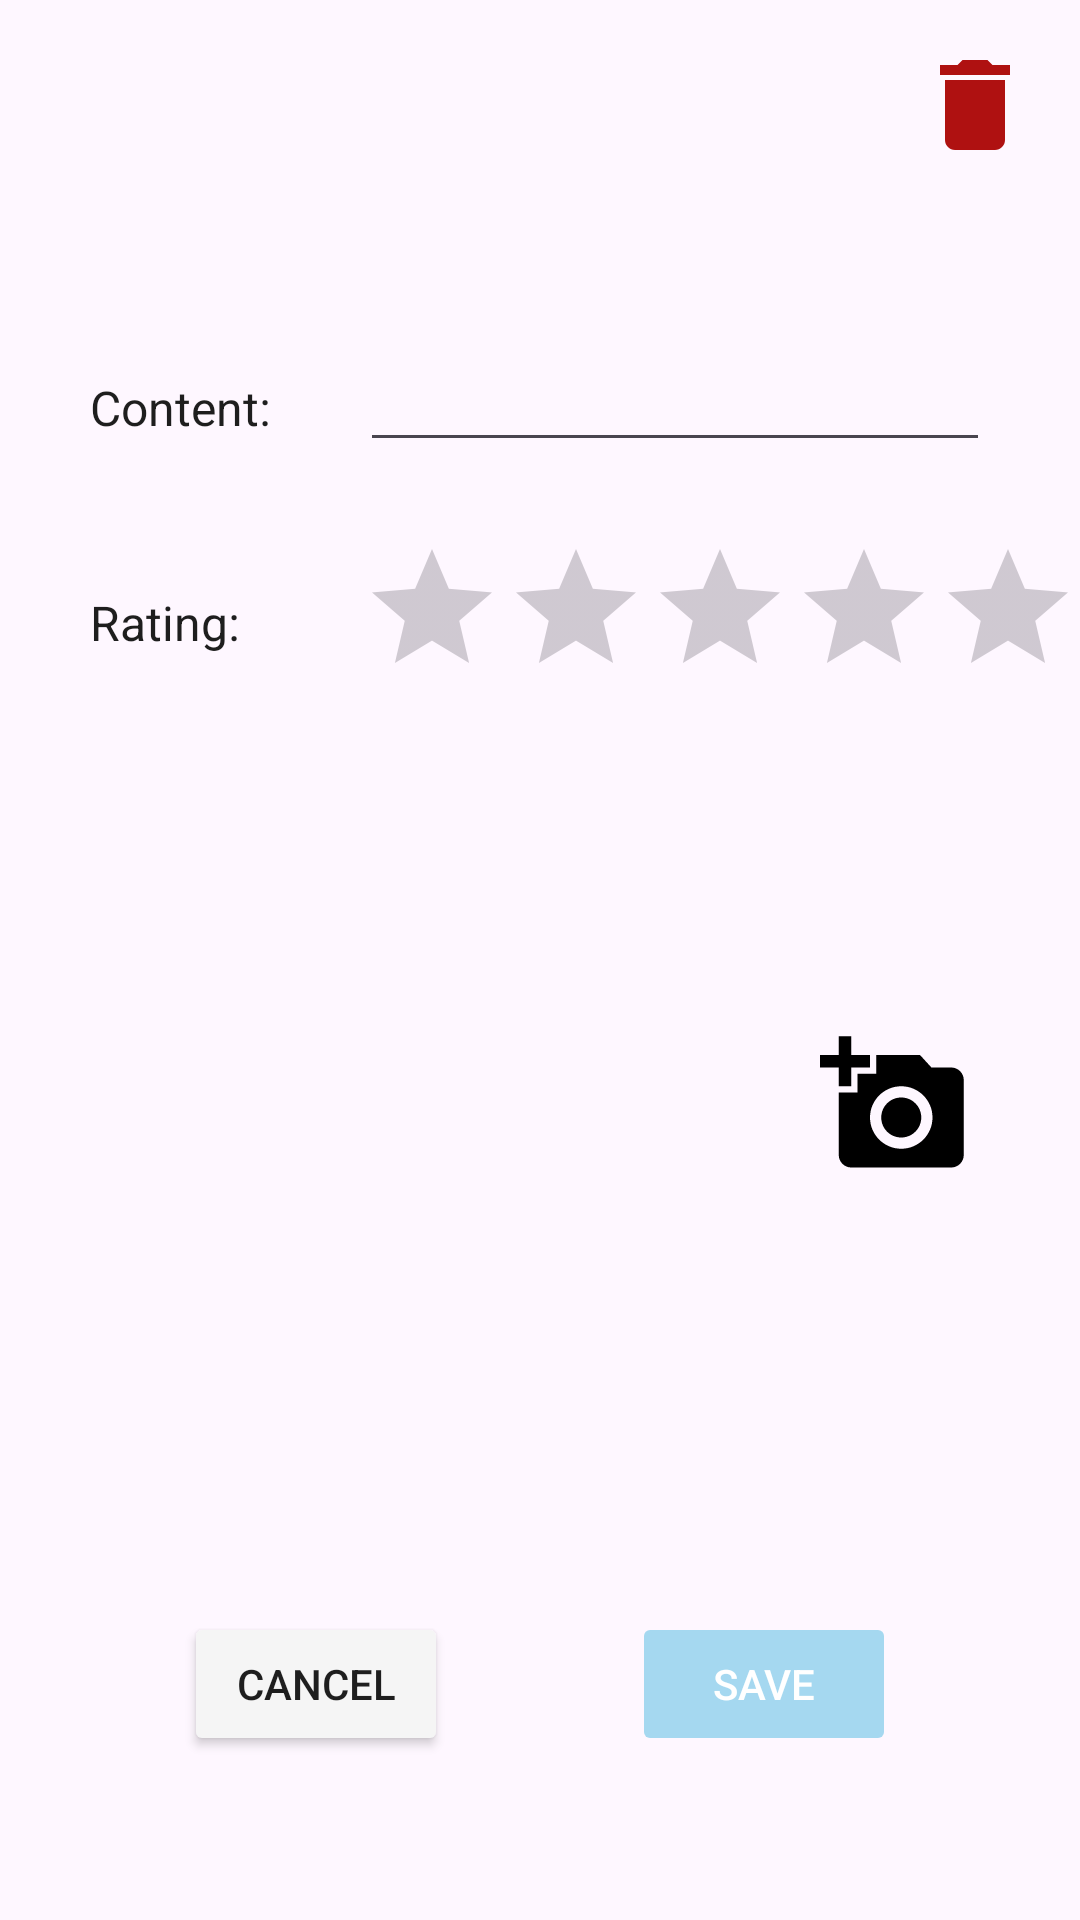

Icons on this 1080 x 1920 Android screen, each with the point to tap as [x,y]:
delete: [975,105]
